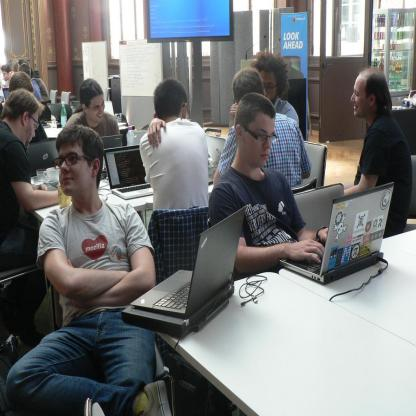board: (131, 204, 248, 316), (278, 182, 394, 284), (105, 142, 153, 199), (27, 144, 58, 177), (206, 136, 225, 164), (101, 134, 123, 148), (61, 101, 67, 126), (3, 88, 9, 100)
